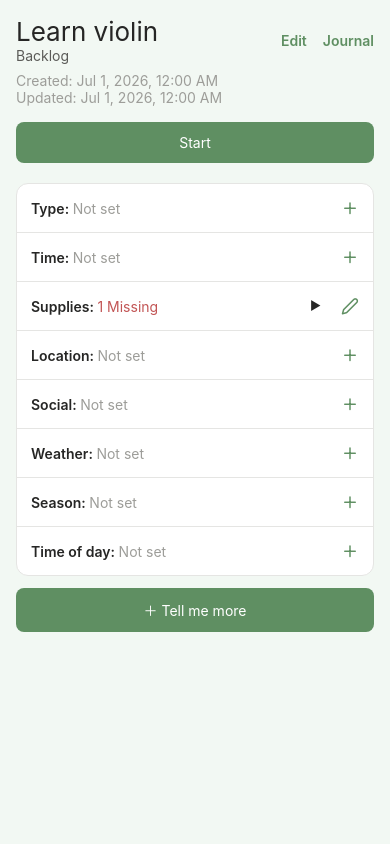
Test case: InterestDetailScreen › summarizes Supplies as a missing count and expands to a checkbox list without have/need labels
Expected: the text "Paint brush" is not shown
Click the text "Supplies: 1 Missing" at x=95, y=306, box [31,298,158,314]
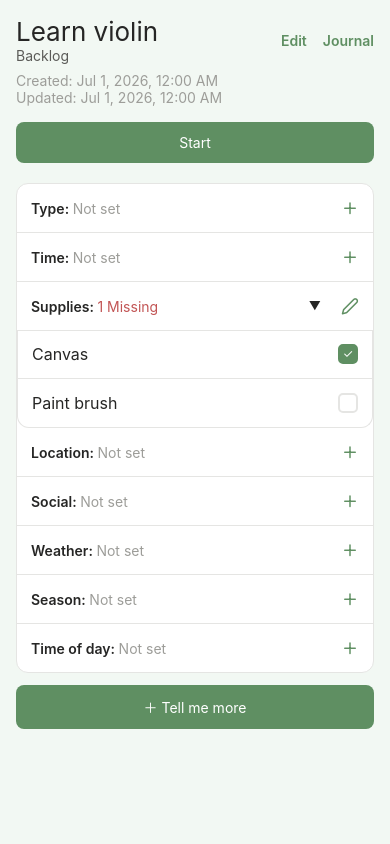
Expected: the text "Paint brush" is shown, [32,393,118,413]
Expected: the text "Canvas" is shown, [32,344,88,364]
Expected: the number of checkboxes is 2, [18,330,372,379]; [32,393,358,413]
